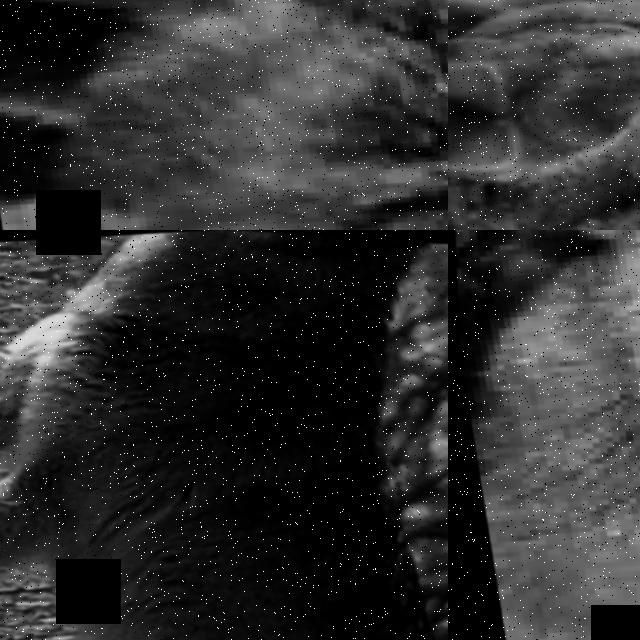dog: (448, 230, 640, 640)
wolf: (0, 230, 448, 640), (0, 0, 448, 230), (448, 0, 640, 230)
